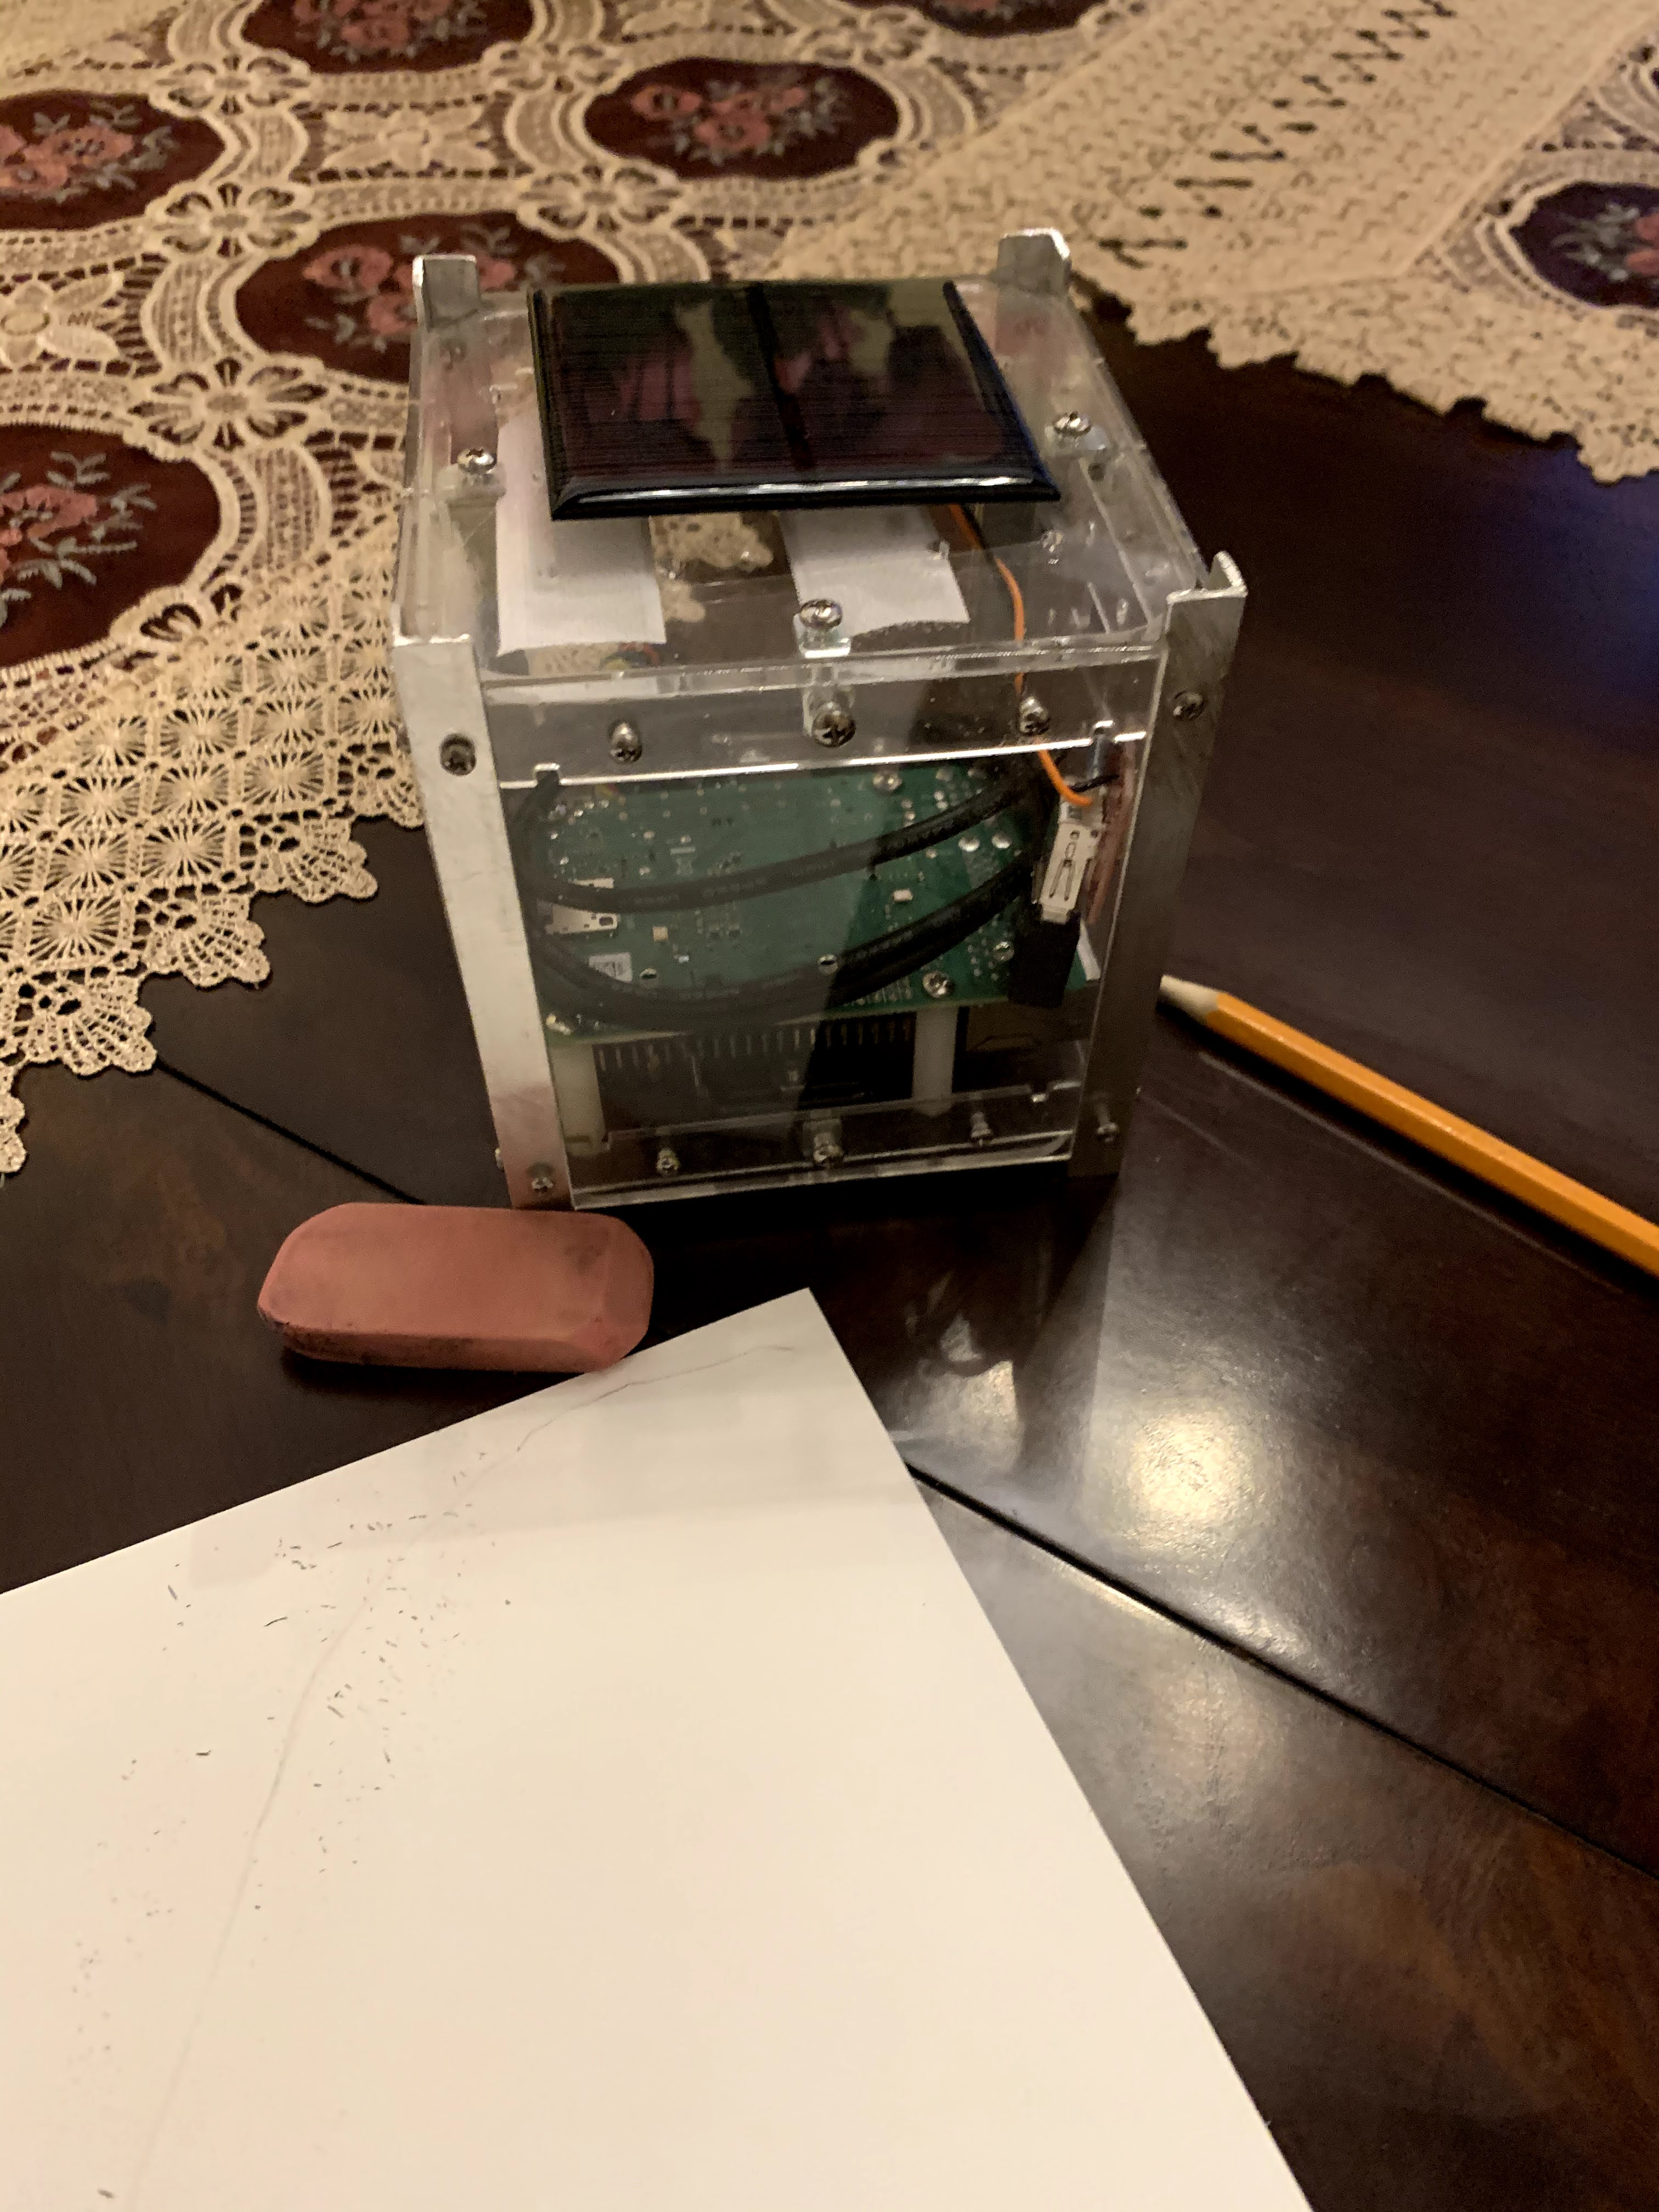Space-debris-cubesat: (359, 218, 1253, 1214)
